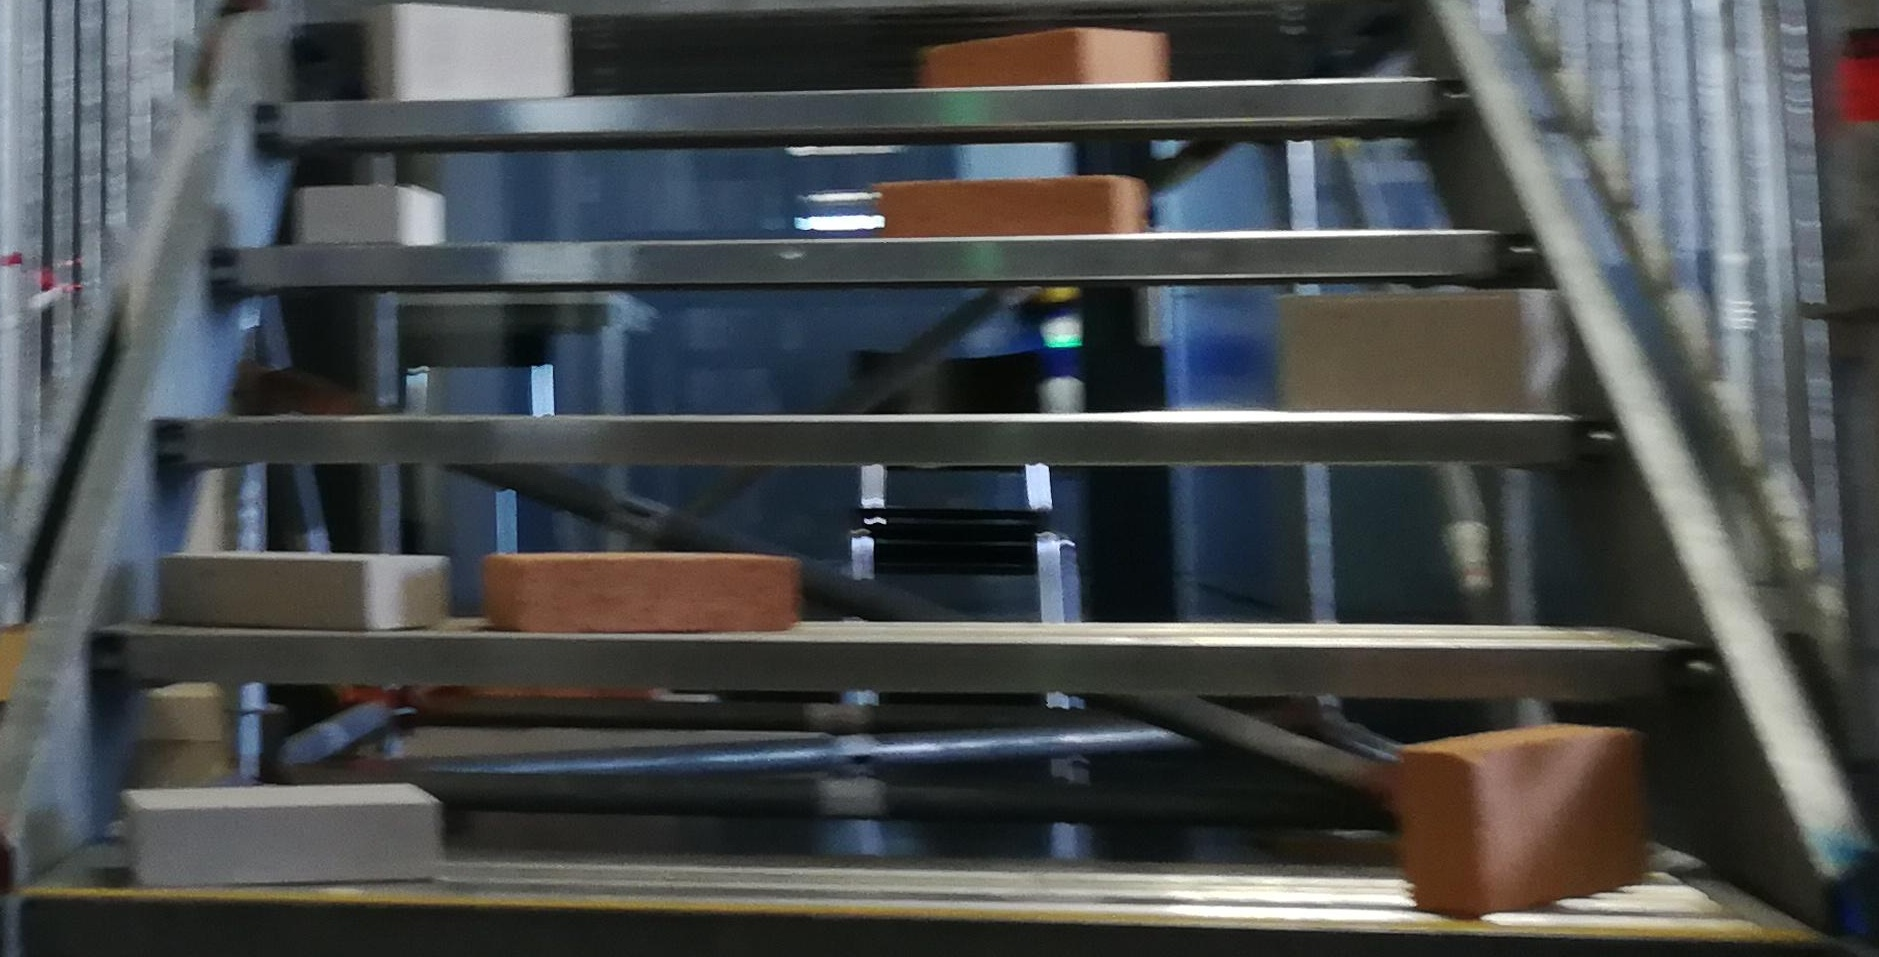brick: (1406, 723, 1644, 912), (1277, 291, 1562, 411), (122, 787, 439, 878), (493, 553, 792, 629), (156, 549, 445, 627), (366, 6, 564, 96), (877, 172, 1144, 233), (924, 29, 1162, 83), (299, 189, 440, 242)
edge: (21, 886, 1827, 957), (90, 627, 1726, 703), (153, 413, 1618, 463), (209, 227, 1543, 282), (253, 74, 1470, 134)
